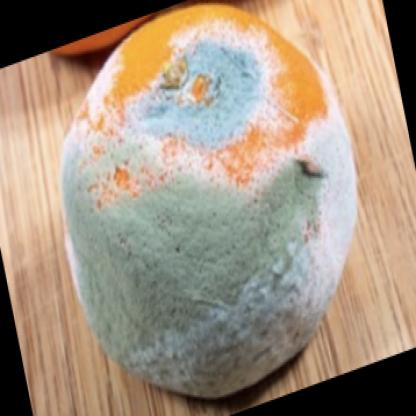rotten: (64, 5, 359, 400)
